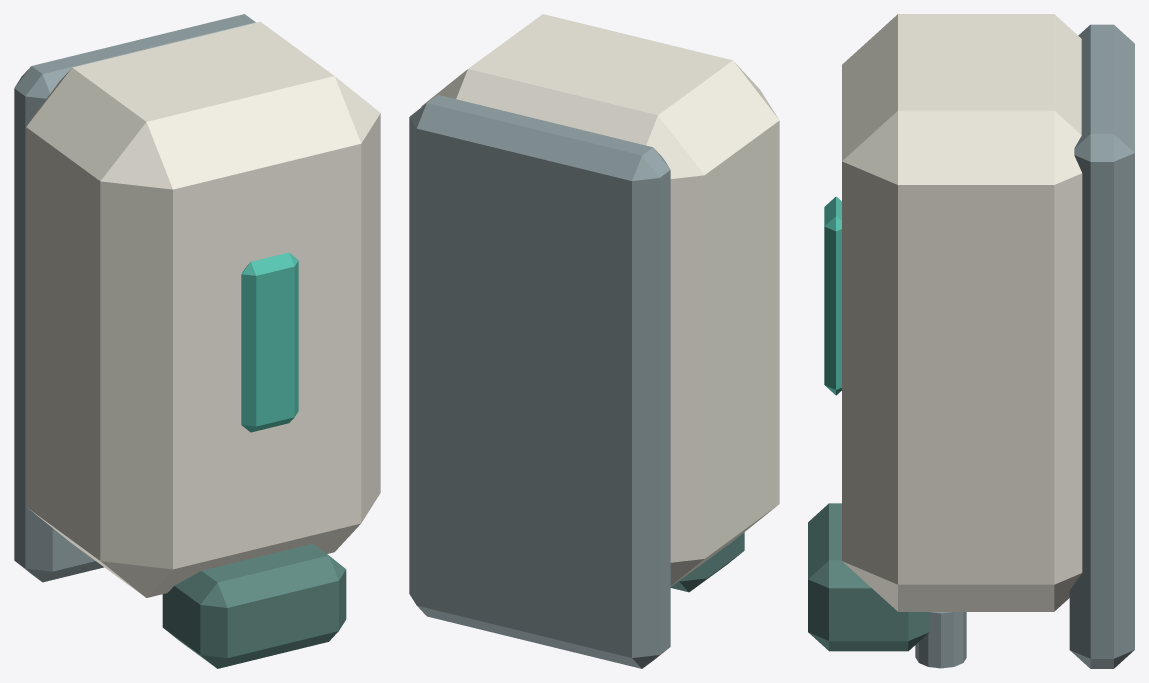
File: Facilities-SoapDispenser.fbx
3 renders of one model, left to right at view 1: azimuth 30°, elevation 25°; view 2: azimuth 150°, elevation 25°; view 3: azimuth 270°, elevation 25°, orthographic. The views are drawn at different scales.
Visible parts, largest first — view 1: Soap Reservoir, Push Paddle, Backplate, Level Window; view 2: Backplate, Soap Reservoir, Push Paddle; view 3: Soap Reservoir, Backplate, Push Paddle, Level Window, Nozzle.
Boxes of the visible parts, x1,y1,x2,y2 form: Soap Reservoir: (26, 21, 380, 597); Push Paddle: (162, 543, 346, 668); Backplate: (14, 14, 255, 582); Level Window: (241, 252, 298, 432); Backplate: (409, 95, 670, 668); Soap Reservoir: (421, 14, 779, 586); Push Paddle: (670, 532, 744, 592); Soap Reservoir: (842, 14, 1082, 611); Backplate: (1069, 24, 1134, 668); Push Paddle: (808, 503, 929, 651); Level Window: (824, 196, 841, 395); Nozzle: (915, 612, 966, 668).
Bounding box in the file's own units: 0.146 × 0.2815 × 0.14.
